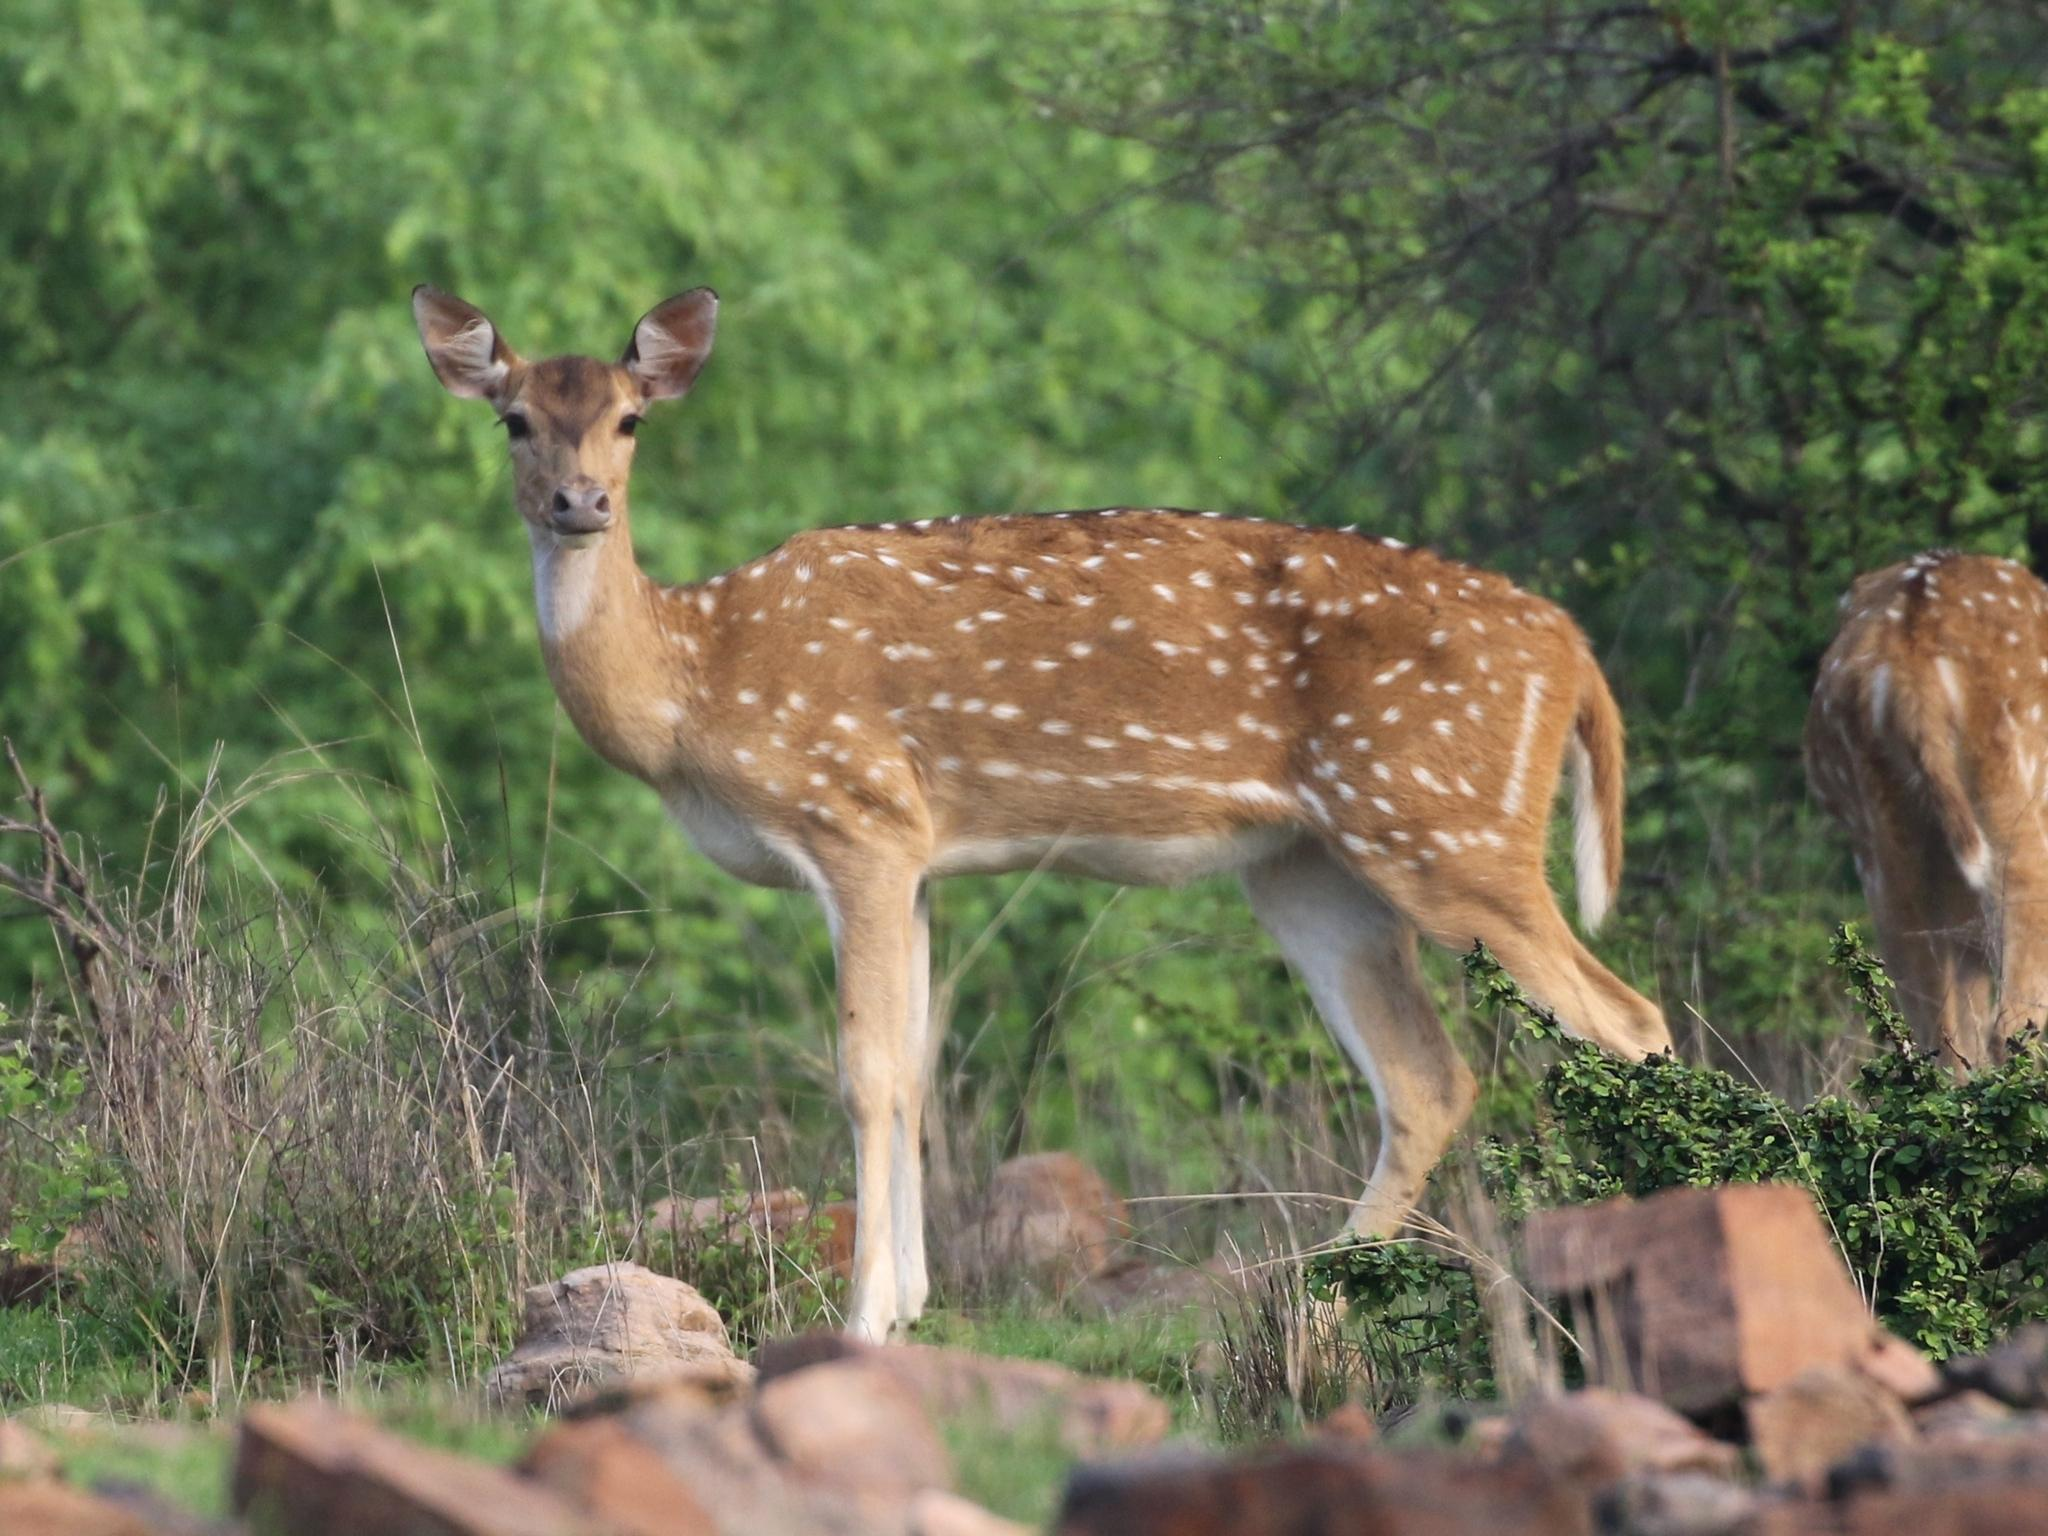Deer: (413, 286, 1671, 1338), (1804, 552, 2046, 1066)
